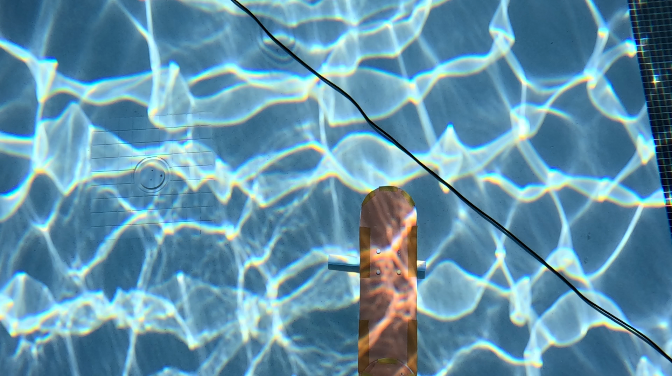pathmarker: (358, 187, 417, 375)
